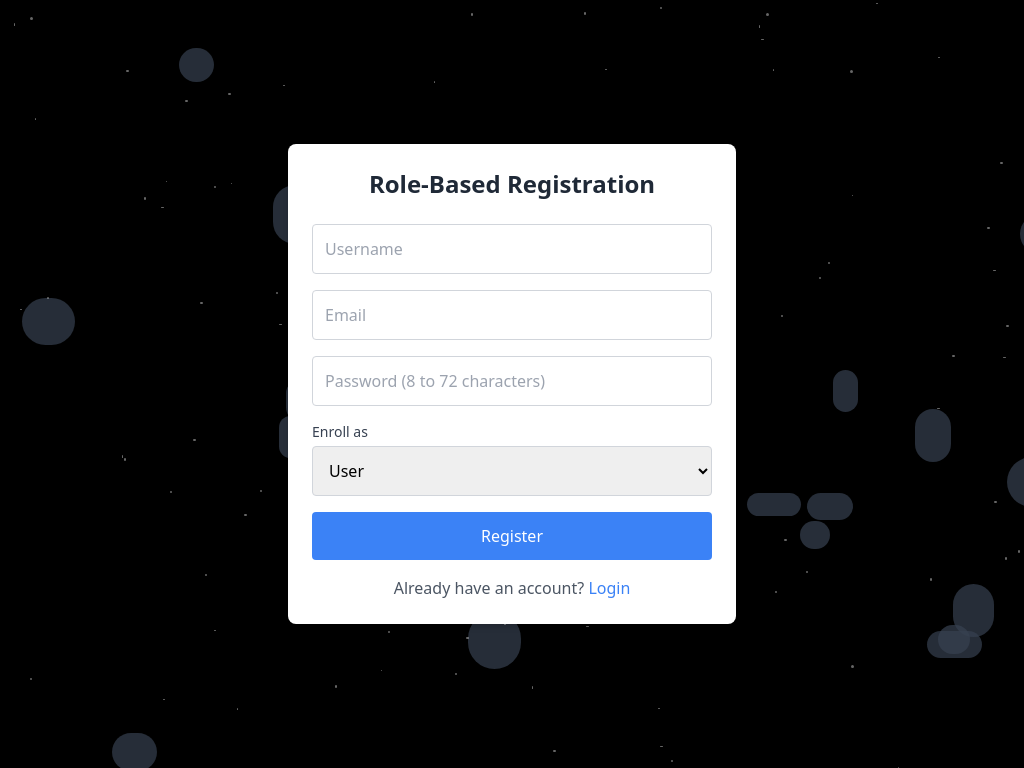
Test case: uses a single login page for admins and users
This screenshot has width=1024, height=768.
Click the link "Login" at (609, 588), box [588, 577, 630, 599]
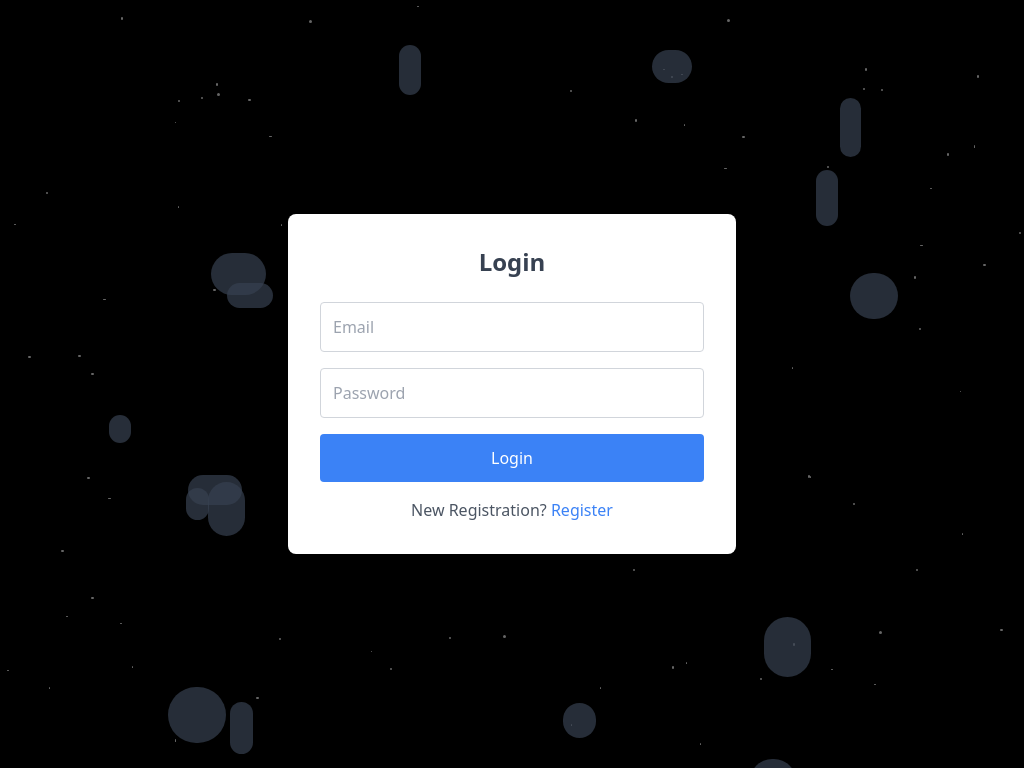
Now the heading "Login" is shown, box [479, 245, 545, 278]
